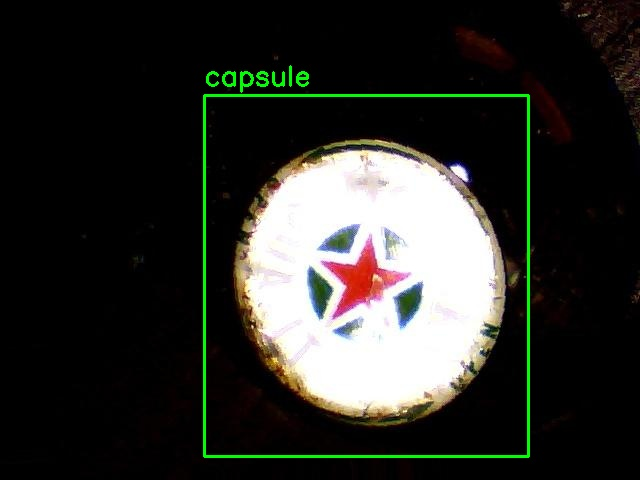capsule: (204, 95, 528, 456)
